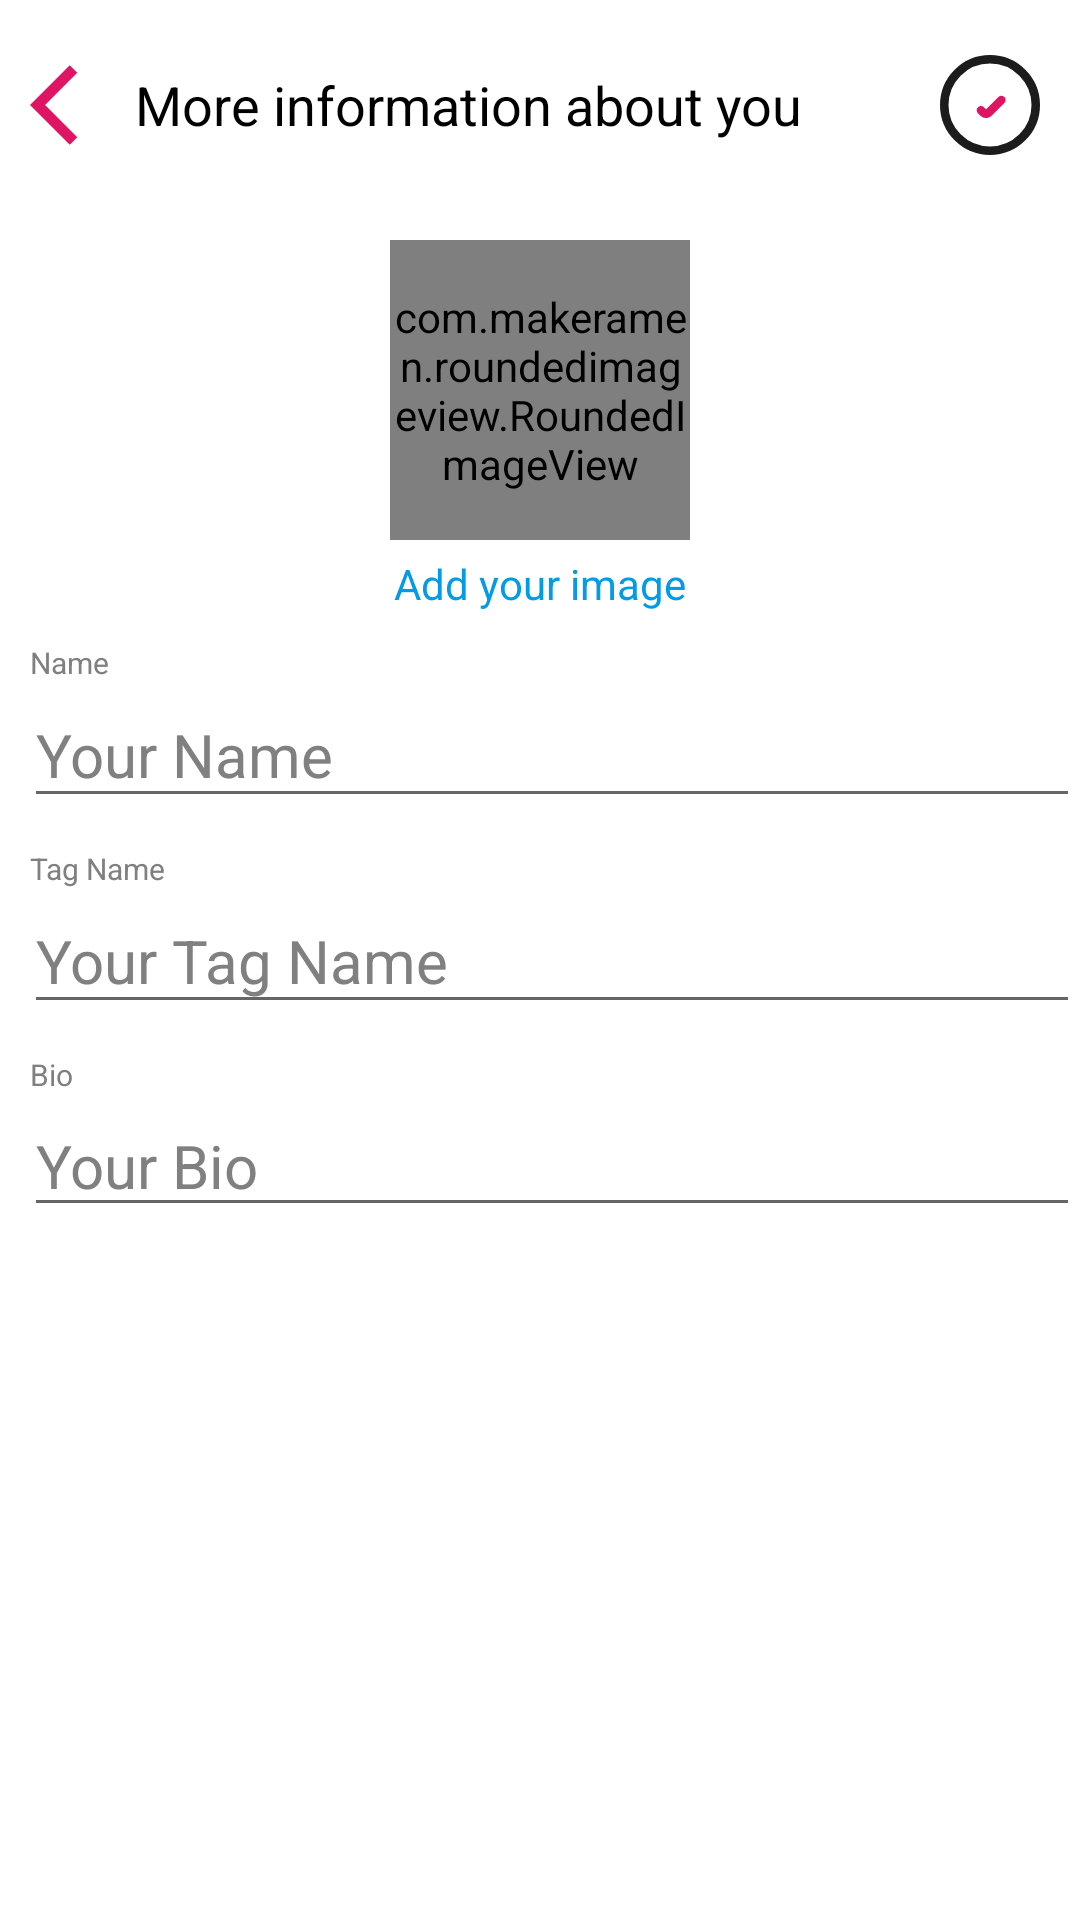

Icon bounding boxes for this 1080px×1920px phone screenshot, format Rect(x1, y1, x2, y2):
back: Rect(30, 65, 77, 145)
circle success: Rect(940, 55, 1040, 155)
